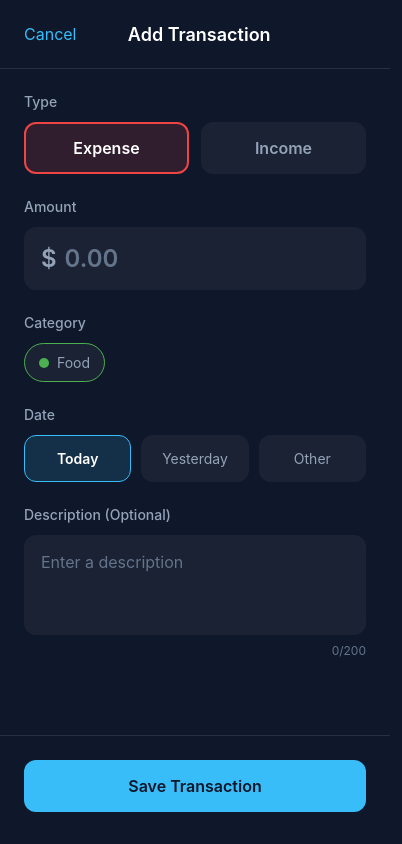
Test case: AddTransactionScreen › Description Input › shows character count
Expected: the text "0/200" is shown, x1=332 y1=643 x2=366 y2=658
Type "Test" into the text box labelled "description". click: (195, 585)
box: x1=24 y1=535 x2=366 y2=635
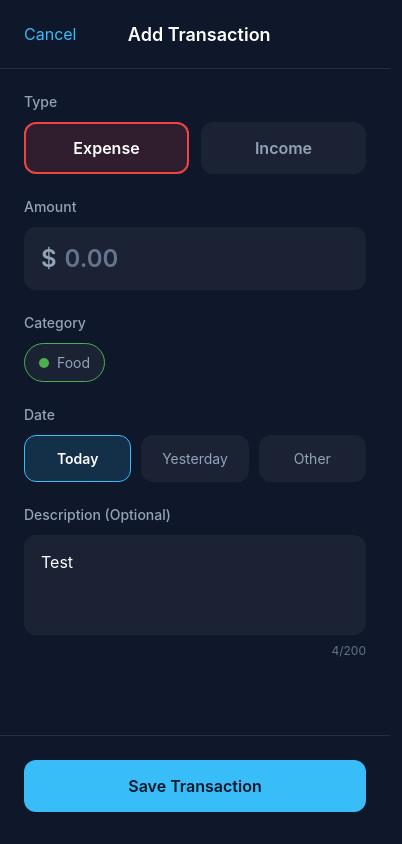
Expected: the text "4/200" is shown, x1=331 y1=643 x2=366 y2=658
